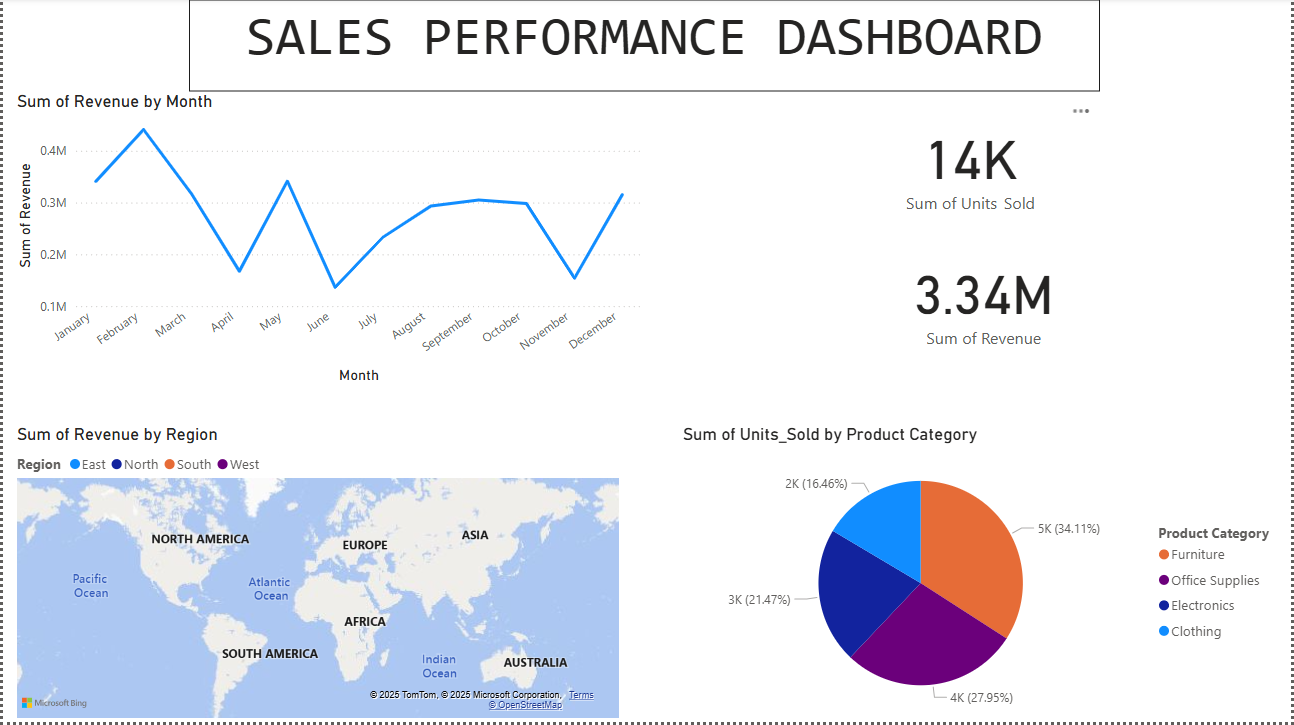

What the dashboard file says about the page in this screenshot:
{"tool":"powerbi","page":{"name":"Page 1","canvas":[1280,720],"ordinal":0},"visuals":[{"type":"lineChart","fields":{"Category":["sales_data_powerbi_full.Date.Variation.Date Hierarchy.Month"],"Y":["Sum(sales_data_powerbi_full.Revenue)"]},"box":[9.4,92.6,631.2,294.8],"z":0},{"type":"card","fields":{"Values":["Sum(sales_data_powerbi_full.Units_Sold)"]},"box":[657.6,88.8,608.5,151.2],"z":1000},{"type":"card","fields":{"Values":["Sum(sales_data_powerbi_full.Revenue)"]},"box":[670.9,209.8,608.5,177.6],"z":1001},{"type":"map","fields":{"Size":["Sum(sales_data_powerbi_full.Revenue)"],"Series":["sales_data_powerbi_full.Region"]},"box":[9.4,423.3,608.5,296.7],"z":1002},{"type":"pieChart","fields":{"Category":["sales_data_powerbi_full.Product Category"],"Y":["Sum(sales_data_powerbi_full.Units_Sold)"]},"box":[670.9,423.3,608.5,296.7],"z":1003},{"type":"textbox","box":[185.2,1.9,905.2,90.7],"z":1004}]}

Visuals, with their boxes in screenshot pixels (x1, y1, x2, y2), scaled from the page's 1280x720 canvas onto the 1294x725 screenshot:
lineChart - sales_data_powerbi_full.Date.Variation.Date Hierarchy.Month x Sum(sales_data_powerbi_full.Revenue): <box>10,93,648,390</box>
card - Sum(sales_data_powerbi_full.Units_Sold): <box>665,89,1280,242</box>
card - Sum(sales_data_powerbi_full.Revenue): <box>678,211,1293,390</box>
map - Sum(sales_data_powerbi_full.Revenue) x sales_data_powerbi_full.Region: <box>10,426,625,724</box>
pieChart - sales_data_powerbi_full.Product Category x Sum(sales_data_powerbi_full.Units_Sold): <box>678,426,1293,724</box>
textbox: <box>187,2,1102,93</box>
